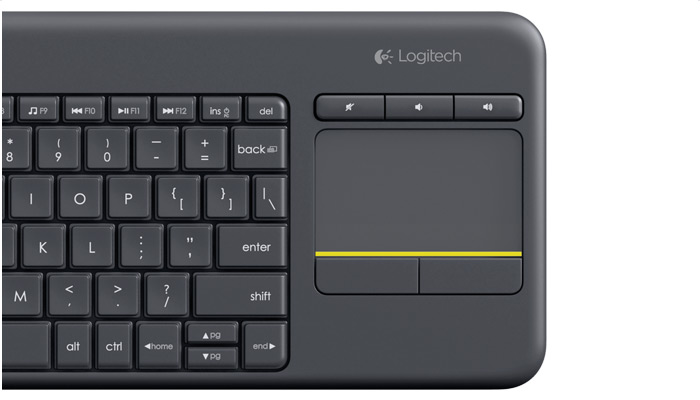logitech-keyboard-k400: (1, 16, 548, 390)
